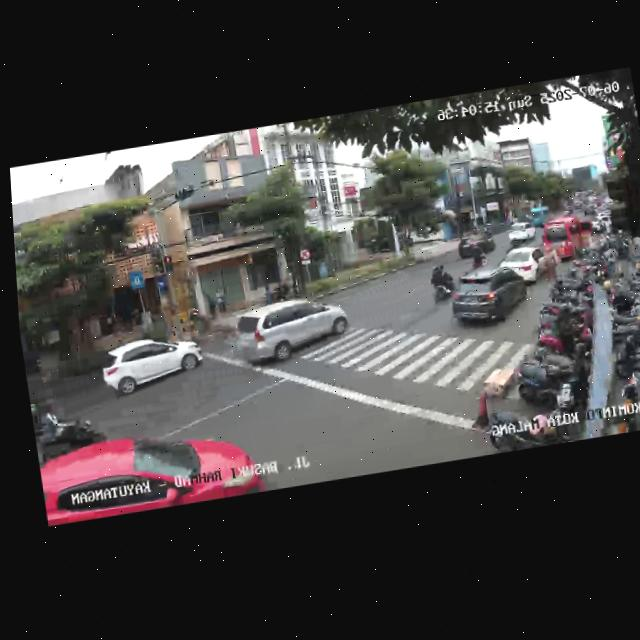car: (36, 413, 263, 525), (230, 290, 353, 373), (96, 328, 207, 404), (445, 264, 531, 332), (496, 237, 561, 288), (545, 211, 603, 264), (455, 231, 496, 262), (504, 219, 539, 249)
motorcycle: (30, 389, 112, 474), (425, 260, 456, 303), (469, 241, 487, 269)
